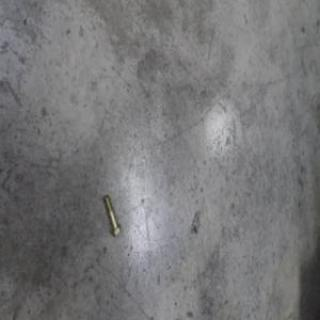Bolttrack_idkeyframe: (101, 192, 120, 238)
